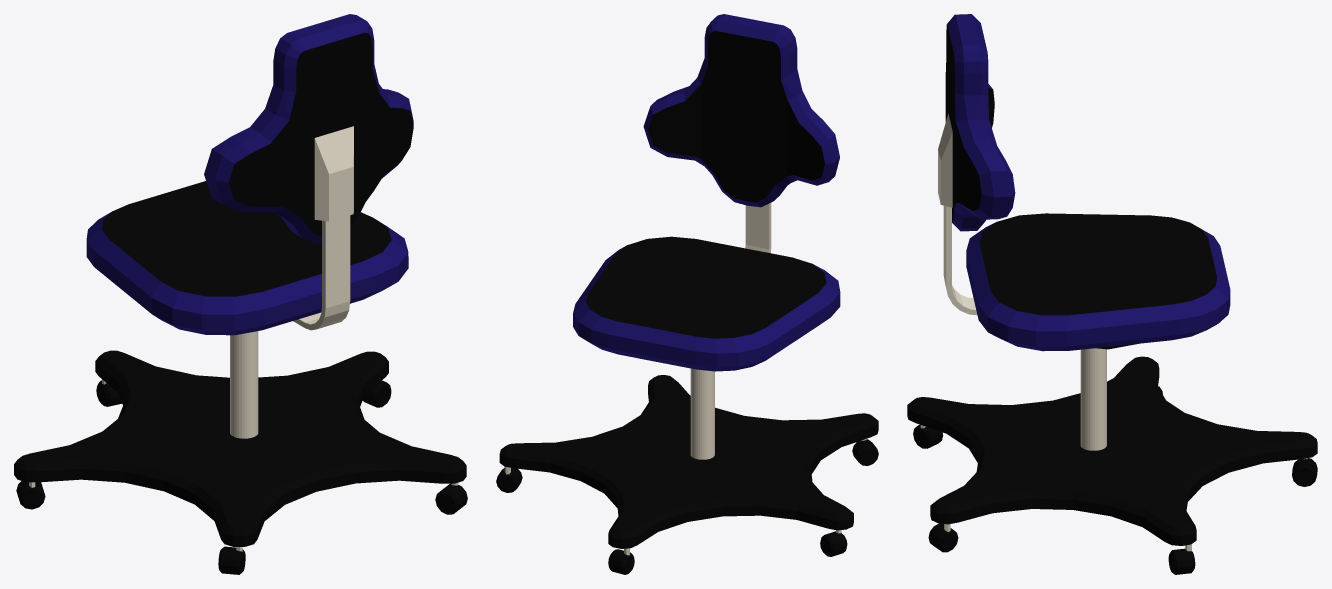
The picture shows the model from 3 angles, left to right: view 1: azimuth 30°, elevation 25°; view 2: azimuth 150°, elevation 25°; view 3: azimuth 270°, elevation 25°; orthographic projection. The views are drawn at different scales.
Visible parts, largest first — view 1: silla_gaming.014; view 2: silla_gaming.014; view 3: silla_gaming.014.
Boxes of the visible parts, bbox=[...] form: silla_gaming.014: bbox=[14, 14, 467, 574]; silla_gaming.014: bbox=[496, 14, 878, 574]; silla_gaming.014: bbox=[907, 14, 1317, 574].
Bounding box in the file's own units: 0.7502 × 0.73 × 0.917.
